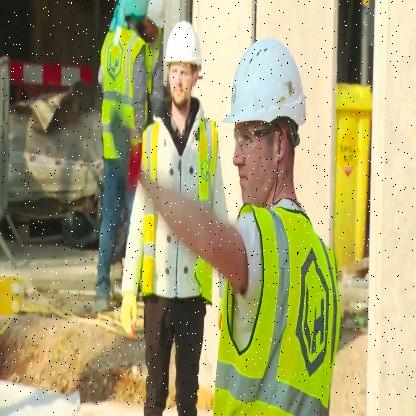capacete: (219, 36, 315, 136), (161, 17, 209, 70)
oculos: (226, 124, 276, 152)
